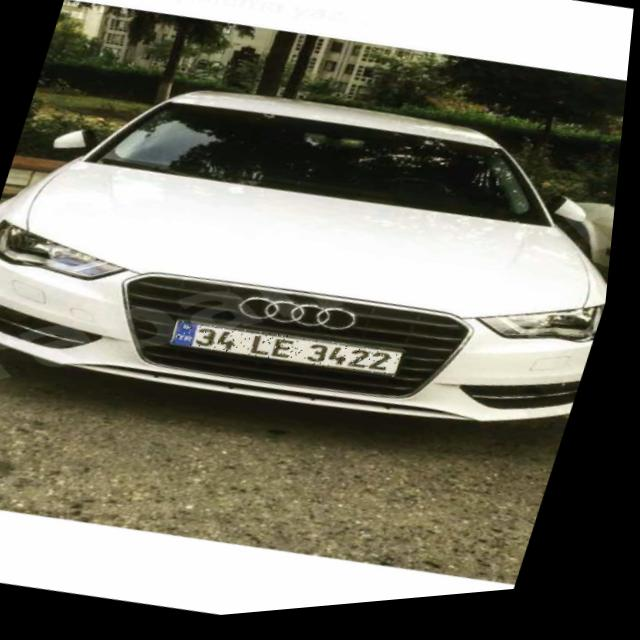license_plate: (172, 307, 415, 401)
